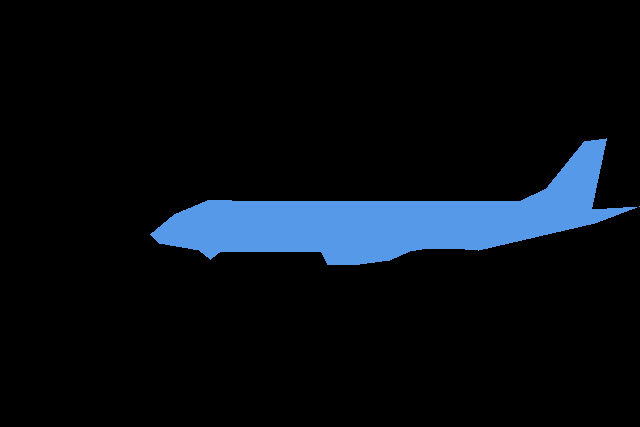Airplane: (150, 138, 640, 264)
